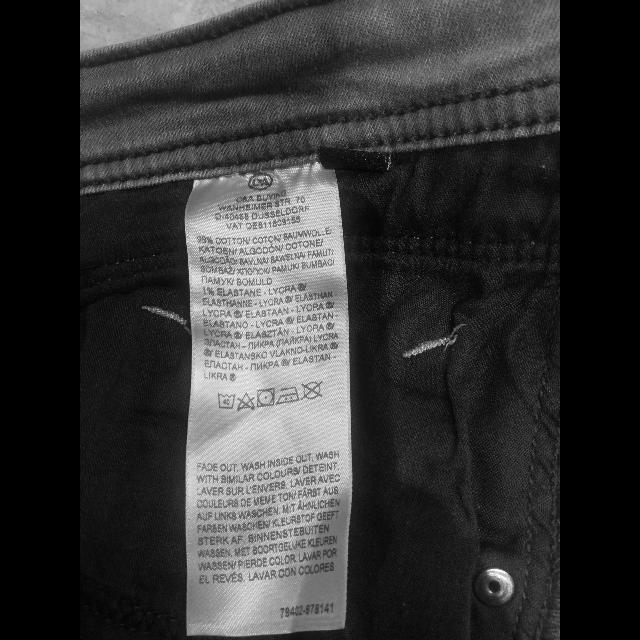40C: (217, 392, 236, 410)
DN_bleach: (237, 392, 256, 412)
DN_dry_clean: (300, 380, 324, 400)
iron_medium: (276, 386, 300, 406)
tumble_dry_low: (256, 388, 276, 408)
